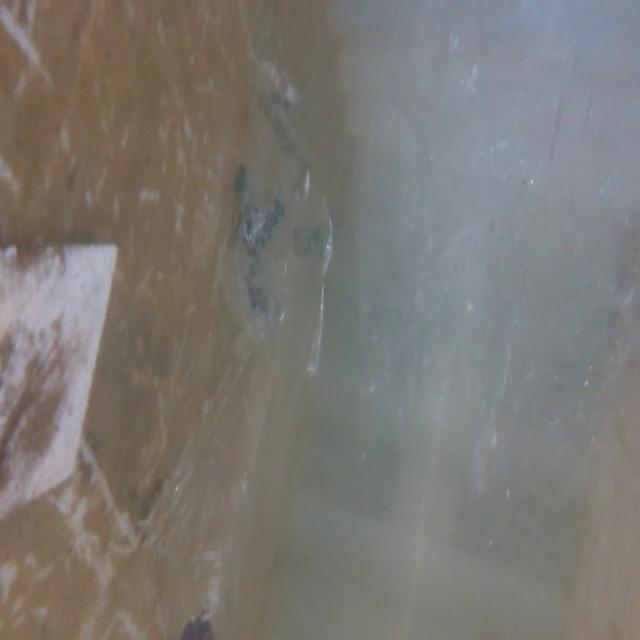metal: (0, 234, 131, 517)
plastic bags: (340, 0, 545, 505), (216, 52, 332, 390)
plastic bottle: (162, 432, 262, 640)
